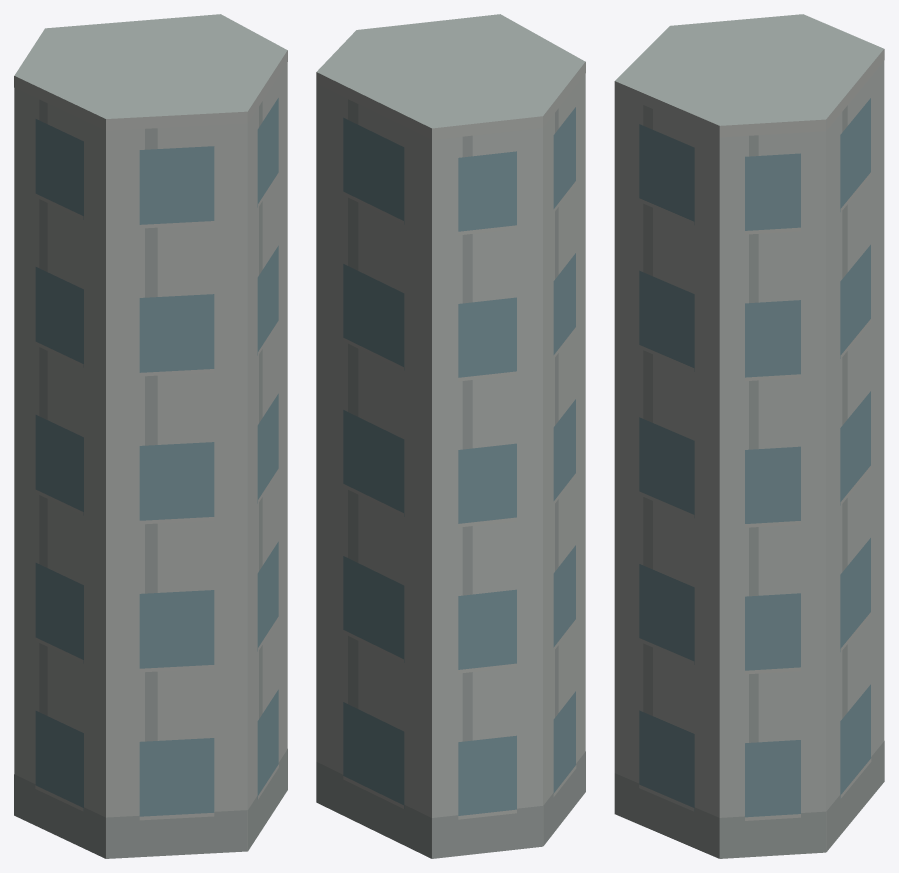
Rendered from survey-upis-32740395.glb.
3 views of the same model, side by side, from view 1: azimuth 30°, elevation 25°; view 2: azimuth 150°, elevation 25°; view 3: azimuth 270°, elevation 25° (orthographic).
Parts seen in each view (by area): view 1: survey-upis-32740395.tmp; view 2: survey-upis-32740395.tmp; view 3: survey-upis-32740395.tmp.
Part boxes in pixels (x1=…): survey-upis-32740395.tmp: x1=14, y1=14, x2=287, y2=858; survey-upis-32740395.tmp: x1=316, y1=14, x2=585, y2=858; survey-upis-32740395.tmp: x1=614, y1=14, x2=884, y2=858.
Bounding box in the file's own units: 5 × 15.25 × 5.09.
